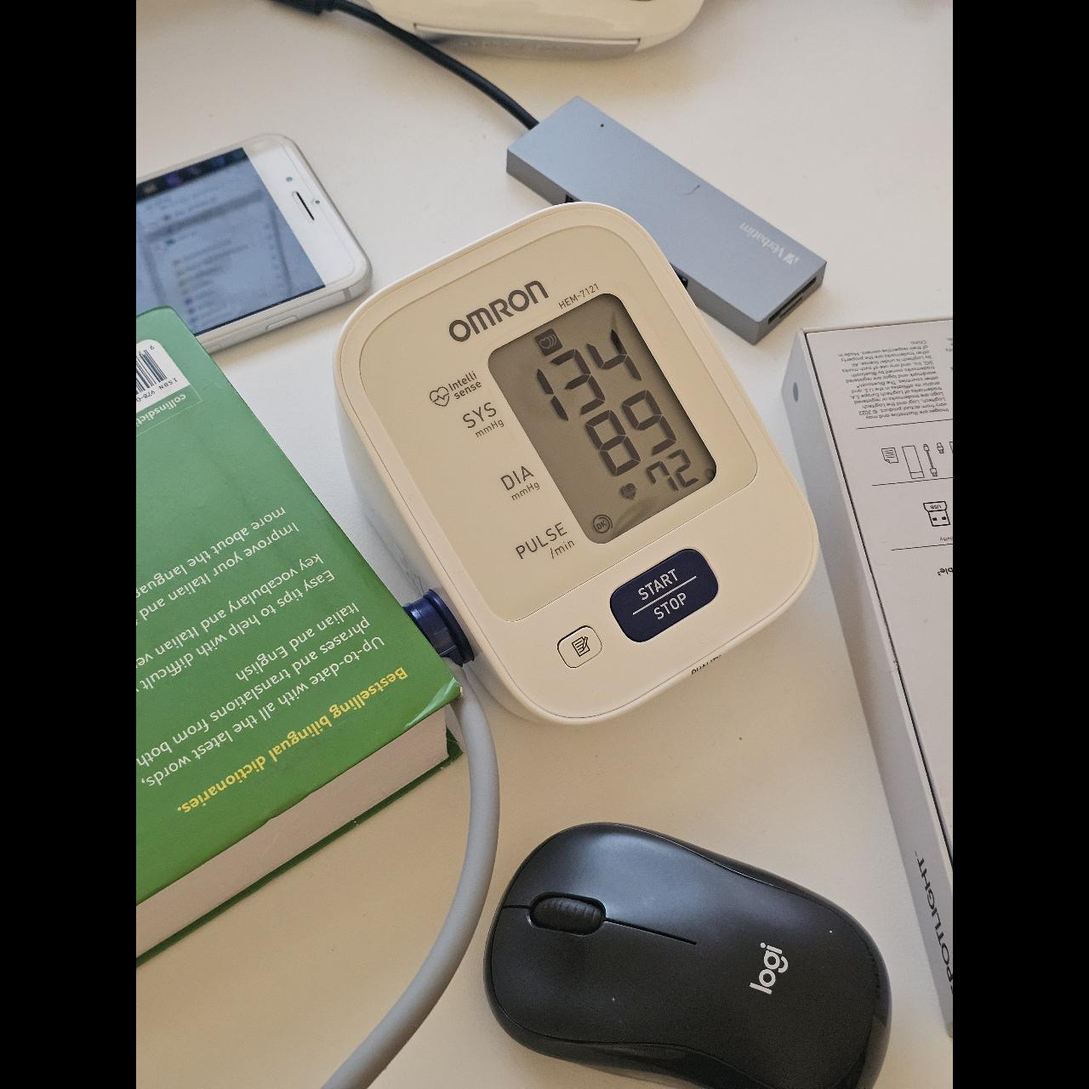blood pressure monitor: (331, 200, 824, 731)
